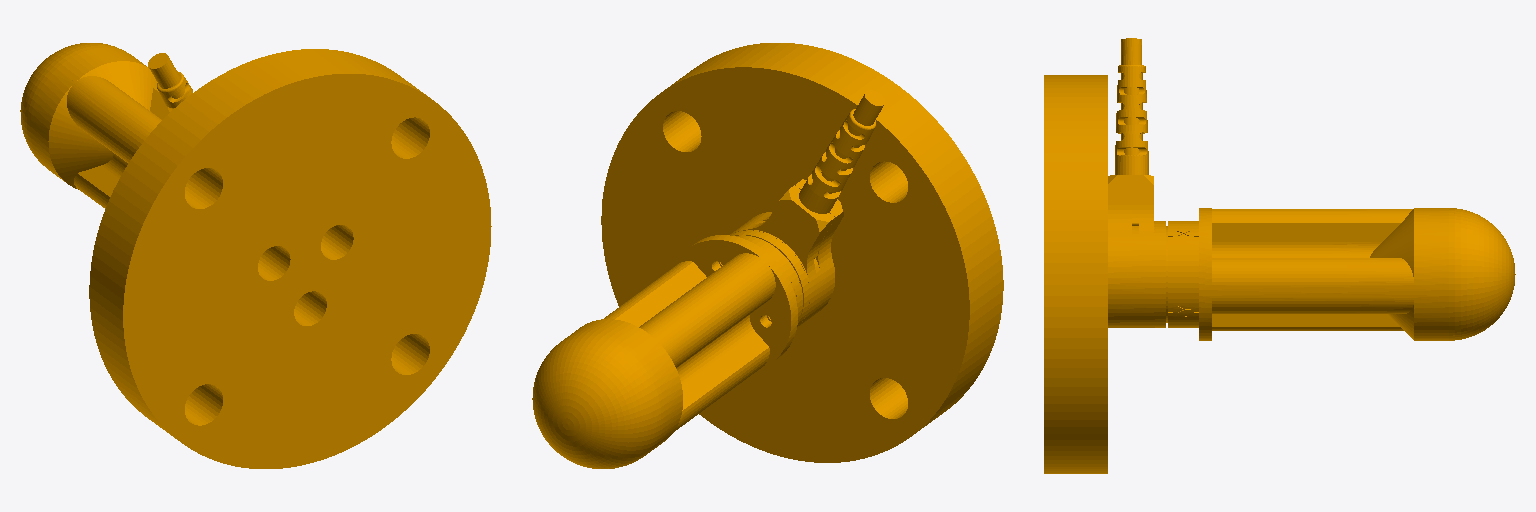
The robot description file, URDF, robot "ur3":
<?xml version="1.0" encoding="utf-8"?>
<!-- =================================================================================== -->
<!-- |    This document was autogenerated by xacro from ur3_joint_limited_robot.urdf.xacro | -->
<!-- |    EDITING THIS FILE BY HAND IS NOT RECOMMENDED                                 | -->
<!-- =================================================================================== -->
<robot name="ur3" xmlns:xacro="http://wiki.ros.org/xacro">
  <gazebo>
    <plugin filename="libgazebo_ros_control.so" name="ros_control">
      <!--robotNamespace>/</robotNamespace-->
      <!--robotSimType>gazebo_ros_control/DefaultRobotHWSim</robotSimType-->
    </plugin>
    <!--
    <plugin name="gazebo_ros_power_monitor_controller" filename="libgazebo_ros_power_monitor.so">
      <alwaysOn>true</alwaysOn>
      <updateRate>1.0</updateRate>
      <timeout>5</timeout>
      <powerStateTopic>power_state</powerStateTopic>
      <powerStateRate>10.0</powerStateRate>
      <fullChargeCapacity>87.78</fullChargeCapacity>
      <dischargeRate>-474</dischargeRate>
      <chargeRate>525</chargeRate>
      <dischargeVoltage>15.52</dischargeVoltage>
      <chargeVoltage>16.41</chargeVoltage>
    </plugin>
-->
  </gazebo>
  <!--
  Author: [author]
-->
  <!-- measured from model -->
  <link name="base_link">
    <visual>
      <geometry>
        <mesh filename="package://impedance_test/meshes/visual/base.dae"/>
      </geometry>
      <material name="LightGrey">
        <color rgba="0.7 0.7 0.7 1.0"/>
      </material>
    </visual>
    <collision>
      <geometry>
        <mesh filename="package://impedance_test/meshes/collision/base.stl"/>
      </geometry>
    </collision>
    <inertial>
      <mass value="2.0"/>
      <origin rpy="0 0 0" xyz="0.0 0.0 0.0"/>
      <inertia ixx="0.0030531654454" ixy="0.0" ixz="0.0" iyy="0.0030531654454" iyz="0.0" izz="0.005625"/>
    </inertial>
  </link>
  <joint name="shoulder_pan_joint" type="revolute">
    <parent link="base_link"/>
    <child link="shoulder_link"/>
    <origin rpy="0.0 0.0 0.0" xyz="0.0 0.0 0.1519"/>
    <axis xyz="0 0 1"/>
    <limit effort="330.0" lower="-3.14159265359" upper="3.14159265359" velocity="2.16"/>
    <dynamics damping="0.0" friction="0.0"/>
  </joint>
  <link name="shoulder_link">
    <visual>
      <geometry>
        <mesh filename="package://impedance_test/meshes/visual/shoulder.dae"/>
      </geometry>
      <material name="LightGrey">
        <color rgba="0.7 0.7 0.7 1.0"/>
      </material>
    </visual>
    <collision>
      <geometry>
        <mesh filename="package://impedance_test/meshes/collision/shoulder.stl"/>
      </geometry>
    </collision>
    <inertial>
      <mass value="2.0"/>
      <origin rpy="0 0 0" xyz="0.0 0.0 0.0"/>
      <inertia ixx="0.0080931634294" ixy="0.0" ixz="0.0" iyy="0.0080931634294" iyz="0.0" izz="0.005625"/>
    </inertial>
  </link>
  <joint name="shoulder_lift_joint" type="revolute">
    <parent link="shoulder_link"/>
    <child link="upper_arm_link"/>
    <origin rpy="0.0 1.57079632679 0.0" xyz="0.0 0.1198 0.0"/>
    <axis xyz="0 1 0"/>
    <limit effort="330.0" lower="-3.14159265359" upper="3.14159265359" velocity="2.16"/>
    <dynamics damping="0.0" friction="0.0"/>
  </joint>
  <link name="upper_arm_link">
    <visual>
      <geometry>
        <mesh filename="package://impedance_test/meshes/visual/upperarm.dae"/>
      </geometry>
      <material name="LightGrey">
        <color rgba="0.7 0.7 0.7 1.0"/>
      </material>
    </visual>
    <collision>
      <geometry>
        <mesh filename="package://impedance_test/meshes/collision/upperarm.stl"/>
      </geometry>
    </collision>
    <inertial>
      <mass value="3.42"/>
      <origin rpy="0 0 0" xyz="0.0 0.0 0.121825"/>
      <inertia ixx="0.0217284832211" ixy="0.0" ixz="0.0" iyy="0.0217284832211" iyz="0.0" izz="0.00961875"/>
    </inertial>
  </link>
  <joint name="elbow_joint" type="revolute">
    <parent link="upper_arm_link"/>
    <child link="forearm_link"/>
    <origin rpy="0.0 0.0 0.0" xyz="0.0 -0.0925 0.24365"/>
    <axis xyz="0 1 0"/>
    <limit effort="150.0" lower="-3.14159265359" upper="3.14159265359" velocity="3.15"/>
    <dynamics damping="0.0" friction="0.0"/>
  </joint>
  <link name="forearm_link">
    <visual>
      <geometry>
        <mesh filename="package://impedance_test/meshes/visual/forearm.dae"/>
      </geometry>
      <material name="LightGrey">
        <color rgba="0.7 0.7 0.7 1.0"/>
      </material>
    </visual>
    <collision>
      <geometry>
        <mesh filename="package://impedance_test/meshes/collision/forearm.stl"/>
      </geometry>
    </collision>
    <inertial>
      <mass value="1.26"/>
      <origin rpy="0 0 0" xyz="0.0 0.0 0.106625"/>
      <inertia ixx="0.00654680644378" ixy="0.0" ixz="0.0" iyy="0.00654680644378" iyz="0.0" izz="0.00354375"/>
    </inertial>
  </link>
  <joint name="wrist_1_joint" type="revolute">
    <parent link="forearm_link"/>
    <child link="wrist_1_link"/>
    <origin rpy="0.0 1.57079632679 0.0" xyz="0.0 0.0 0.21325"/>
    <axis xyz="0 1 0"/>
    <limit effort="54.0" lower="-3.14159265359" upper="3.14159265359" velocity="3.2"/>
    <dynamics damping="0.0" friction="0.0"/>
  </joint>
  <link name="wrist_1_link">
    <visual>
      <geometry>
        <mesh filename="package://impedance_test/meshes/visual/wrist1.dae"/>
      </geometry>
      <material name="LightGrey">
        <color rgba="0.7 0.7 0.7 1.0"/>
      </material>
    </visual>
    <collision>
      <geometry>
        <mesh filename="package://impedance_test/meshes/collision/wrist1.stl"/>
      </geometry>
    </collision>
    <inertial>
      <mass value="0.8"/>
      <origin rpy="0 0 0" xyz="0.0 0.0 0.0"/>
      <inertia ixx="0.002084999166" ixy="0.0" ixz="0.0" iyy="0.002084999166" iyz="0.0" izz="0.00225"/>
    </inertial>
  </link>
  <joint name="wrist_2_joint" type="revolute">
    <parent link="wrist_1_link"/>
    <child link="wrist_2_link"/>
    <origin rpy="0.0 0.0 0.0" xyz="0.0 0.08505 0.0"/>
    <axis xyz="0 0 1"/>
    <limit effort="54.0" lower="-3.14159265359" upper="3.14159265359" velocity="3.2"/>
    <dynamics damping="0.0" friction="0.0"/>
  </joint>
  <link name="wrist_2_link">
    <visual>
      <geometry>
        <mesh filename="package://impedance_test/meshes/visual/wrist2.dae"/>
      </geometry>
      <material name="LightGrey">
        <color rgba="0.7 0.7 0.7 1.0"/>
      </material>
    </visual>
    <collision>
      <geometry>
        <mesh filename="package://impedance_test/meshes/collision/wrist2.stl"/>
      </geometry>
    </collision>
    <inertial>
      <mass value="0.8"/>
      <origin rpy="0 0 0" xyz="0.0 0.0 0.0"/>
      <inertia ixx="0.002084999166" ixy="0.0" ixz="0.0" iyy="0.002084999166" iyz="0.0" izz="0.00225"/>
    </inertial>
  </link>
  <joint name="wrist_3_joint" type="revolute">
    <parent link="wrist_2_link"/>
    <child link="wrist_3_link"/>
    <origin rpy="0.0 0.0 0.0" xyz="0.0 0.0 0.08535"/>
    <axis xyz="0 1 0"/>
    <limit effort="54.0" lower="-3.14159265359" upper="3.14159265359" velocity="3.2"/>
    <dynamics damping="0.0" friction="0.0"/>
  </joint>
  <link name="wrist_3_link">
    <visual>
      <geometry>
        <mesh filename="package://impedance_test/meshes/visual/wrist3.dae"/>
      </geometry>
      <material name="LightGrey">
        <color rgba="0.7 0.7 0.7 1.0"/>
      </material>
    </visual>
    <collision>
      <geometry>
        <mesh filename="package://impedance_test/meshes/collision/wrist3.stl"/>
      </geometry>
    </collision>
    <inertial>
      <mass value="0.35"/>
      <origin rpy="0 0 0" xyz="0.0 0.0 0.0"/>
      <inertia ixx="0.000912187135125" ixy="0.0" ixz="0.0" iyy="0.000912187135125" iyz="0.0" izz="0.000984375"/>
    </inertial>
  </link>
  <!-- <joint name="ee_fixed_joint" type="fixed">
    <parent link="wrist_3_link"/>
    <child link="ee_link"/>
    <origin rpy="0.0 0.0 1.57079632679" xyz="0.0 0.0819 0.0"/>
  </joint>
  <link name="ee_link">
    <collision>
      <geometry>
        <box size="0.01 0.01 0.01"/>
      </geometry>
      <origin rpy="0 0 0" xyz="-0.01 0 0"/>
    </collision>
    <inertial>
      <mass value="0.0"/>
      <origin rpy="0 0 0" xyz="0 0 0"/>
      <inertia ixx="0.0" ixy="0.0" ixz="0.0" iyy="0.0" iyz="0.0" izz="0.0"/>
    </inertial>
  </link> -->
  <transmission name="shoulder_pan_trans">
    <type>transmission_interface/SimpleTransmission</type>
    <joint name="shoulder_pan_joint">
      <hardwareInterface>hardware_interface/PositionJointInterface</hardwareInterface>
    </joint>
    <actuator name="shoulder_pan_motor">
      <mechanicalReduction>1</mechanicalReduction>
    </actuator>
  </transmission>
  <transmission name="shoulder_lift_trans">
    <type>transmission_interface/SimpleTransmission</type>
    <joint name="shoulder_lift_joint">
      <hardwareInterface>hardware_interface/PositionJointInterface</hardwareInterface>
    </joint>
    <actuator name="shoulder_lift_motor">
      <mechanicalReduction>1</mechanicalReduction>
    </actuator>
  </transmission>
  <transmission name="elbow_trans">
    <type>transmission_interface/SimpleTransmission</type>
    <joint name="elbow_joint">
      <hardwareInterface>hardware_interface/PositionJointInterface</hardwareInterface>
    </joint>
    <actuator name="elbow_motor">
      <mechanicalReduction>1</mechanicalReduction>
    </actuator>
  </transmission>
  <transmission name="wrist_1_trans">
    <type>transmission_interface/SimpleTransmission</type>
    <joint name="wrist_1_joint">
      <hardwareInterface>hardware_interface/PositionJointInterface</hardwareInterface>
    </joint>
    <actuator name="wrist_1_motor">
      <mechanicalReduction>1</mechanicalReduction>
    </actuator>
  </transmission>
  <transmission name="wrist_2_trans">
    <type>transmission_interface/SimpleTransmission</type>
    <joint name="wrist_2_joint">
      <hardwareInterface>hardware_interface/PositionJointInterface</hardwareInterface>
    </joint>
    <actuator name="wrist_2_motor">
      <mechanicalReduction>1</mechanicalReduction>
    </actuator>
  </transmission>
  <transmission name="wrist_3_trans">
    <type>transmission_interface/SimpleTransmission</type>
    <joint name="wrist_3_joint">
      <hardwareInterface>hardware_interface/PositionJointInterface</hardwareInterface>
    </joint>
    <actuator name="wrist_3_motor">
      <mechanicalReduction>1</mechanicalReduction>
    </actuator>
  </transmission>
  <gazebo reference="shoulder_link">
    <selfCollide>true</selfCollide>
  </gazebo>
  <gazebo reference="upper_arm_link">
    <selfCollide>true</selfCollide>
  </gazebo>
  <gazebo reference="forearm_link">
    <selfCollide>true</selfCollide>
  </gazebo>
  <gazebo reference="wrist_1_link">
    <selfCollide>true</selfCollide>
  </gazebo>
  <gazebo reference="wrist_3_link">
    <selfCollide>true</selfCollide>
  </gazebo>
  <gazebo reference="wrist_2_link">
    <selfCollide>true</selfCollide>
  </gazebo>
  <gazebo reference="ee_link">
    <selfCollide>true</selfCollide>
  </gazebo>
  <!-- ROS base_link to UR 'Base' Coordinates transform -->
  <link name="base">
    <inertial>
      <mass value="0.0"/>
      <origin rpy="0 0 0" xyz="0 0 0"/>
      <inertia ixx="0.0" ixy="0.0" ixz="0.0" iyy="0.0" iyz="0.0" izz="0.0"/>
    </inertial>
  </link>
  <joint name="base_link-base_fixed_joint" type="fixed">
    <!-- NOTE: this rotation is only needed as long as base_link itself is
                 not corrected wrt the real robot (ie: rotated over 180
                 degrees)
      -->
    <origin rpy="0 0 -3.14159265359" xyz="0 0 0"/>
    <parent link="base_link"/>
    <child link="base"/>
  </joint>
  <!-- Frame coincident with all-zeros TCP on UR controller -->
  <link name="tool0">
    <inertial>
      <mass value="0.0"/>
      <origin rpy="0 0 0" xyz="0 0 0"/>
      <inertia ixx="0.0" ixy="0.0" ixz="0.0" iyy="0.0" iyz="0.0" izz="0.0"/>
    </inertial>
    <visual>
      <geometry>
        <mesh filename="package://impedance_test/meshes/collision/grounded_peg.stl" scale="0.001 0.001 0.001"/>
      </geometry>
      <origin rpy="0 0 0" xyz="0 0 0"/>
    </visual>
    <collision>
      <geometry>
        <mesh filename="package://impedance_test/meshes/collision/grounded_peg.stl" scale="0.001 0.001 0.001"/>
      </geometry>
      <origin rpy="0 0 0" xyz="0 0 0"/>
    </collision>
  </link>

  <joint name="wrist_3_link-tool0_fixed_joint" type="fixed">
    <origin rpy="-1.57079632679 0 0" xyz="0 0.0819 0"/>
    <parent link="wrist_3_link"/>
    <child link="tool0"/>
  </joint>
  <link name="world"/>
  <joint name="world_joint" type="fixed">
    <parent link="world"/>
    <child link="base_link"/>
    <origin rpy="0.0 0.0 0.0" xyz="0.0 0.0 0.0"/>
  </joint>
</robot>

--- Render facts (derived) ---
Views: 3 orthographic renders of the robot side by side, from view 1: azimuth 30°, elevation 25°; view 2: azimuth 150°, elevation 25°; view 3: azimuth 270°, elevation 25°.
Model ur3 with 10 links and 9 joints (6 revolute, 3 fixed), rooted at world, posed every joint at zero.
Visible links, largest first — view 1: tool0; view 2: tool0; view 3: tool0.
Boxes of the visible links, x1,y1,x2,y2 form: tool0: [20, 43, 491, 468]; tool0: [532, 43, 1003, 468]; tool0: [1044, 38, 1515, 473].
Size in the robot's own frame: 0.063 by 0.0745 by 0.0652 metres.
1 mesh visuals loaded from 8 distinct referenced files (1 binary STL); not drawn: 7 (reference not matched to a file when rendering).